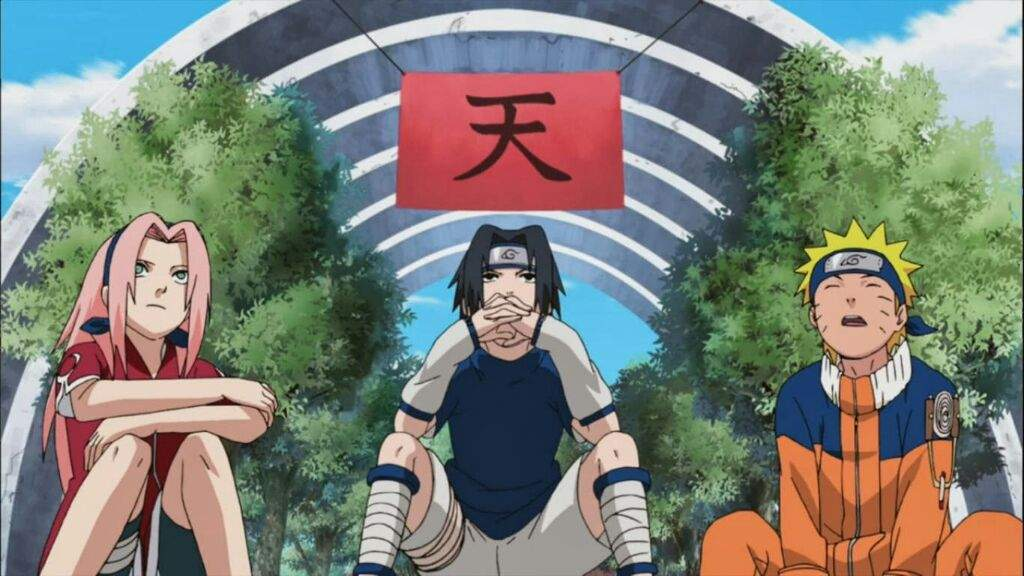naruto: (809, 248, 906, 359)
sakura: (97, 210, 205, 349)
sasuke: (463, 240, 549, 339)
